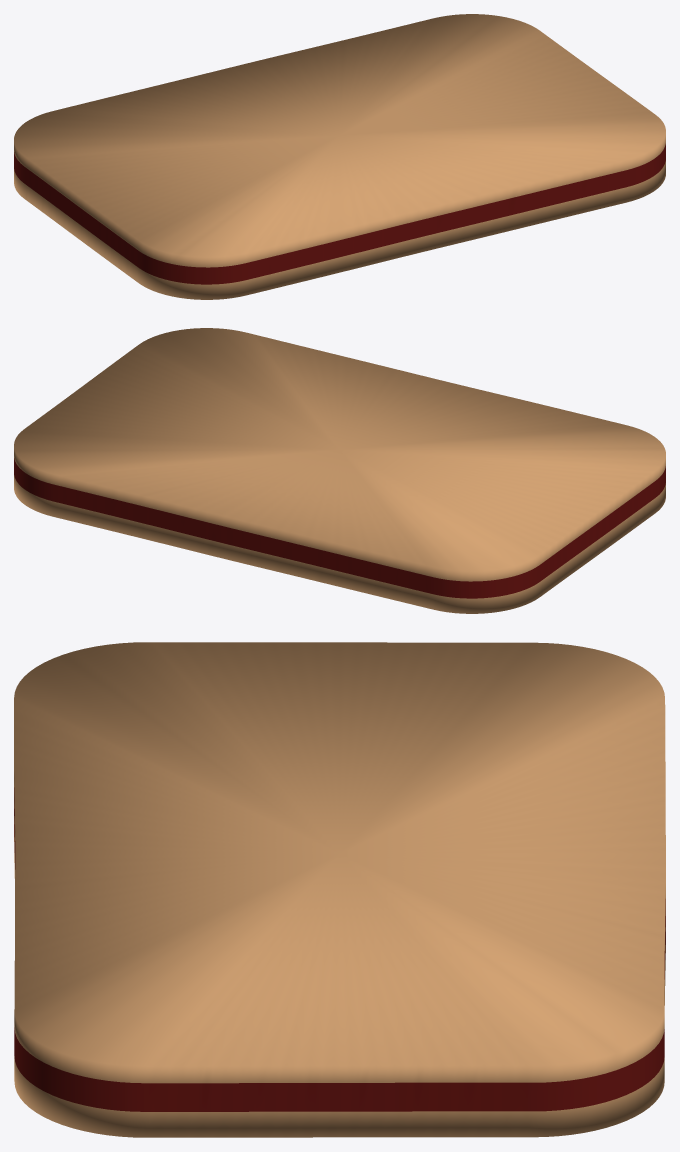
File: cake-foundation-worn.glb
3 views of the same model, one above another, from view 1: azimuth 30°, elevation 25°; view 2: azimuth 150°, elevation 25°; view 3: azimuth 270°, elevation 25° (orthographic). The views are drawn at different scales.
Parts seen in each view (by area): view 1: Golden sponge foundation top.002, Raspberry jam foundation band.002, Golden sponge foundation foot.002; view 2: Golden sponge foundation top.002, Raspberry jam foundation band.002, Golden sponge foundation foot.002; view 3: Golden sponge foundation top.002, Raspberry jam foundation band.002, Golden sponge foundation foot.002.
Boxes of the visible parts, x1=… form: Golden sponge foundation top.002: x1=14, y1=14, x2=665, y2=267; Raspberry jam foundation band.002: x1=14, y1=144, x2=665, y2=284; Golden sponge foundation foot.002: x1=14, y1=161, x2=665, y2=299; Golden sponge foundation top.002: x1=14, y1=328, x2=665, y2=581; Raspberry jam foundation band.002: x1=14, y1=458, x2=665, y2=598; Golden sponge foundation foot.002: x1=14, y1=475, x2=665, y2=613; Golden sponge foundation top.002: x1=14, y1=642, x2=665, y2=1083; Raspberry jam foundation band.002: x1=14, y1=787, x2=665, y2=1111; Golden sponge foundation foot.002: x1=14, y1=816, x2=665, y2=1137.
Size of the model in its own units: 12.67 by 1 by 8.24.
